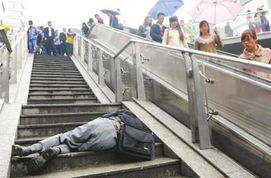10+: (9, 1, 270, 172)
down: (9, 96, 159, 175)
